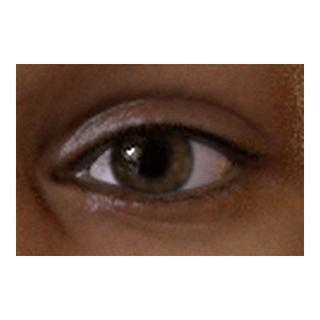pupil: (135, 142, 168, 175)
